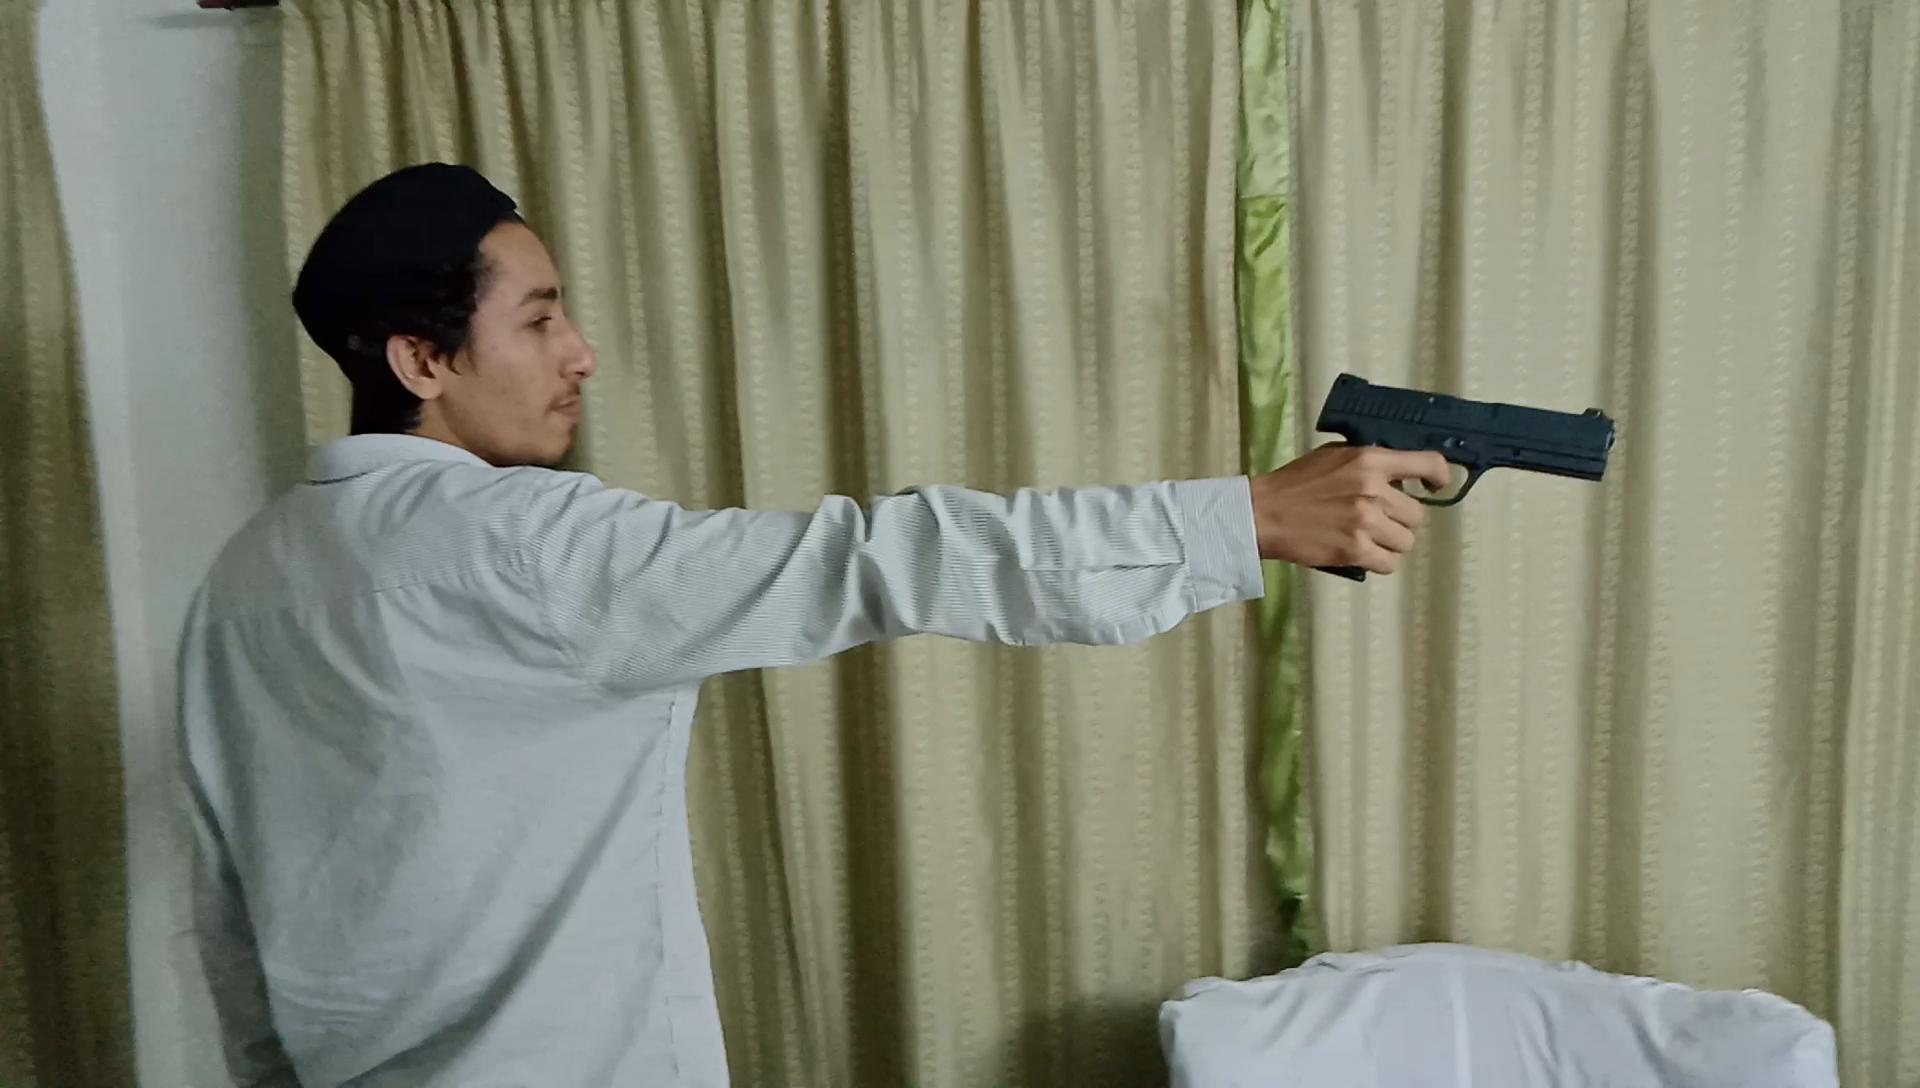criminal: (171, 156, 1626, 1088)
weapon: (1291, 363, 1626, 587)
